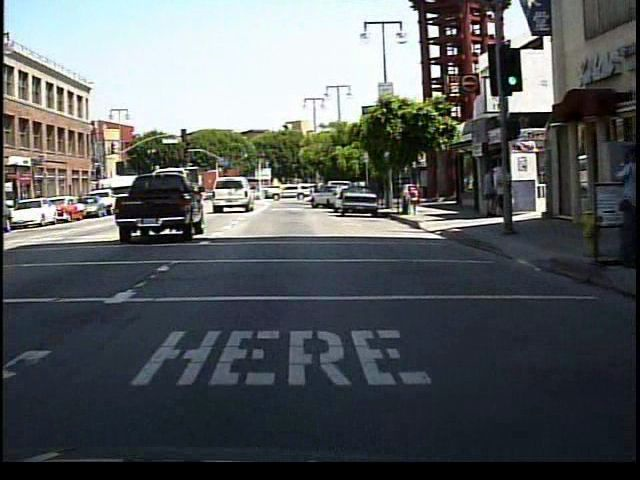person: (606, 145, 635, 269), (492, 159, 517, 229), (480, 166, 497, 219)
